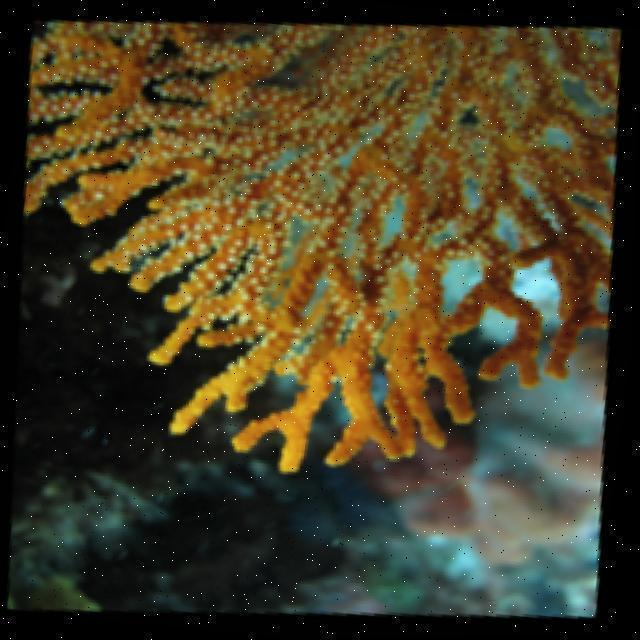Healthy Coral: (23, 36, 618, 511)
